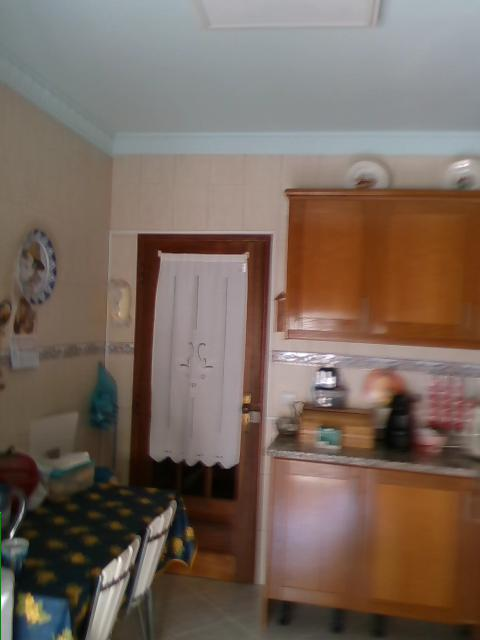door: (128, 232, 271, 584)
